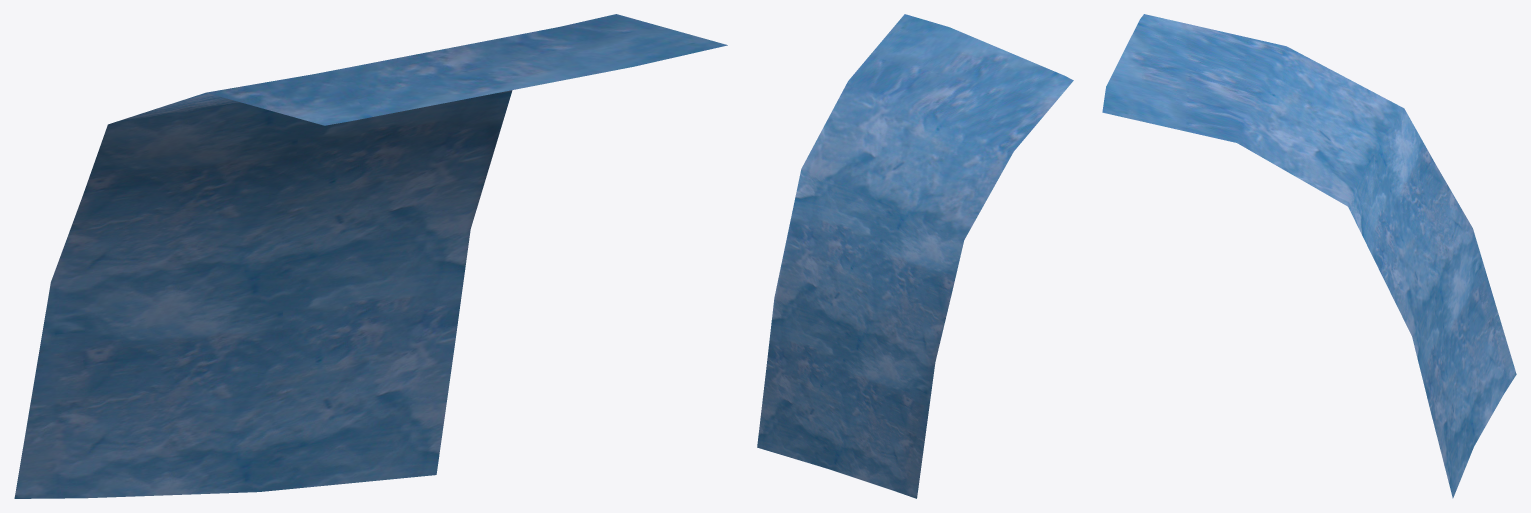
File: IceE2.fbx
3 renders of one model, left to right at view 1: azimuth 30°, elevation 25°; view 2: azimuth 150°, elevation 25°; view 3: azimuth 270°, elevation 25°, orthographic. The views are drawn at different scales.
Parts seen in each view (by area): view 1: IceE2; view 2: IceE2; view 3: IceE2.
Part boxes in pixels (box(x1,y1,x2,y2)): IceE2: box(14, 14, 727, 498); IceE2: box(757, 14, 1073, 498); IceE2: box(1102, 14, 1516, 498).
Size of the model in its own units: 888 by 1479 by 1437.
